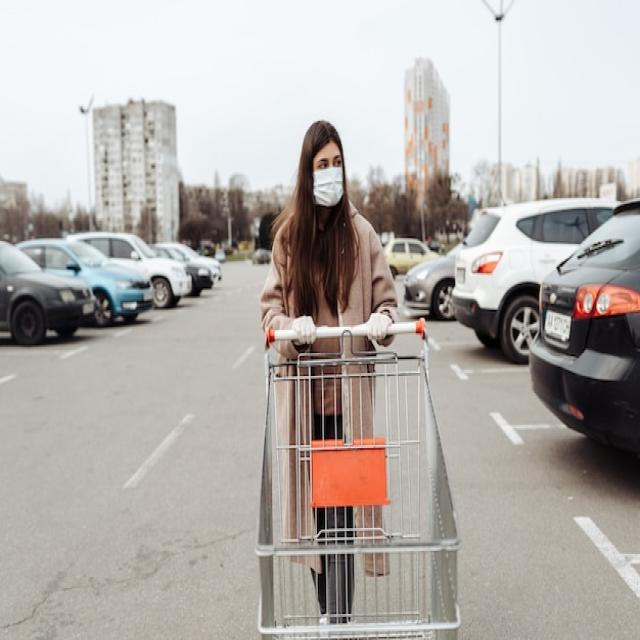Person: (258, 117, 400, 627)
